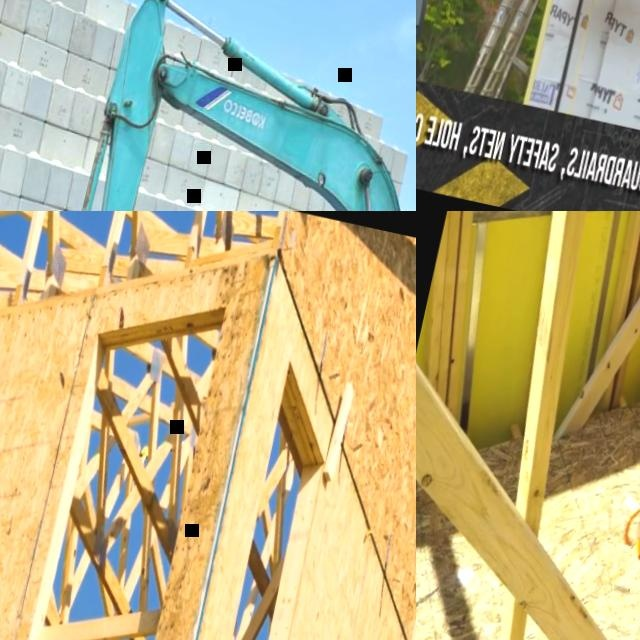Person: (581, 211, 640, 640)
machinery: (24, 0, 416, 211)
